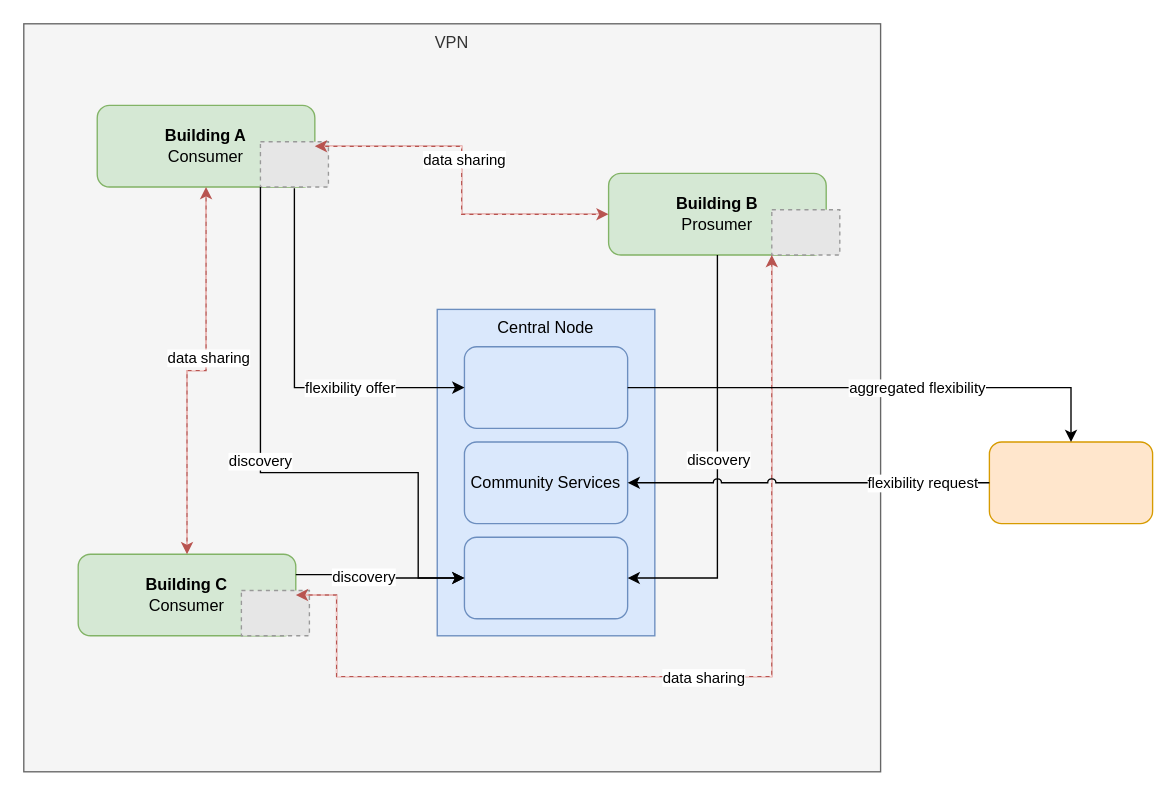
Some shapes in this 1176 by 796 pixel diagram are drawn without their labels. Grey dashed boxes stand in for pictures. Each missing label, with the box of its shape:
DSO: (988, 441, 1153, 524)
Flexibility Aggregator: (463, 345, 628, 428)
Service Discovery: (463, 536, 628, 619)
